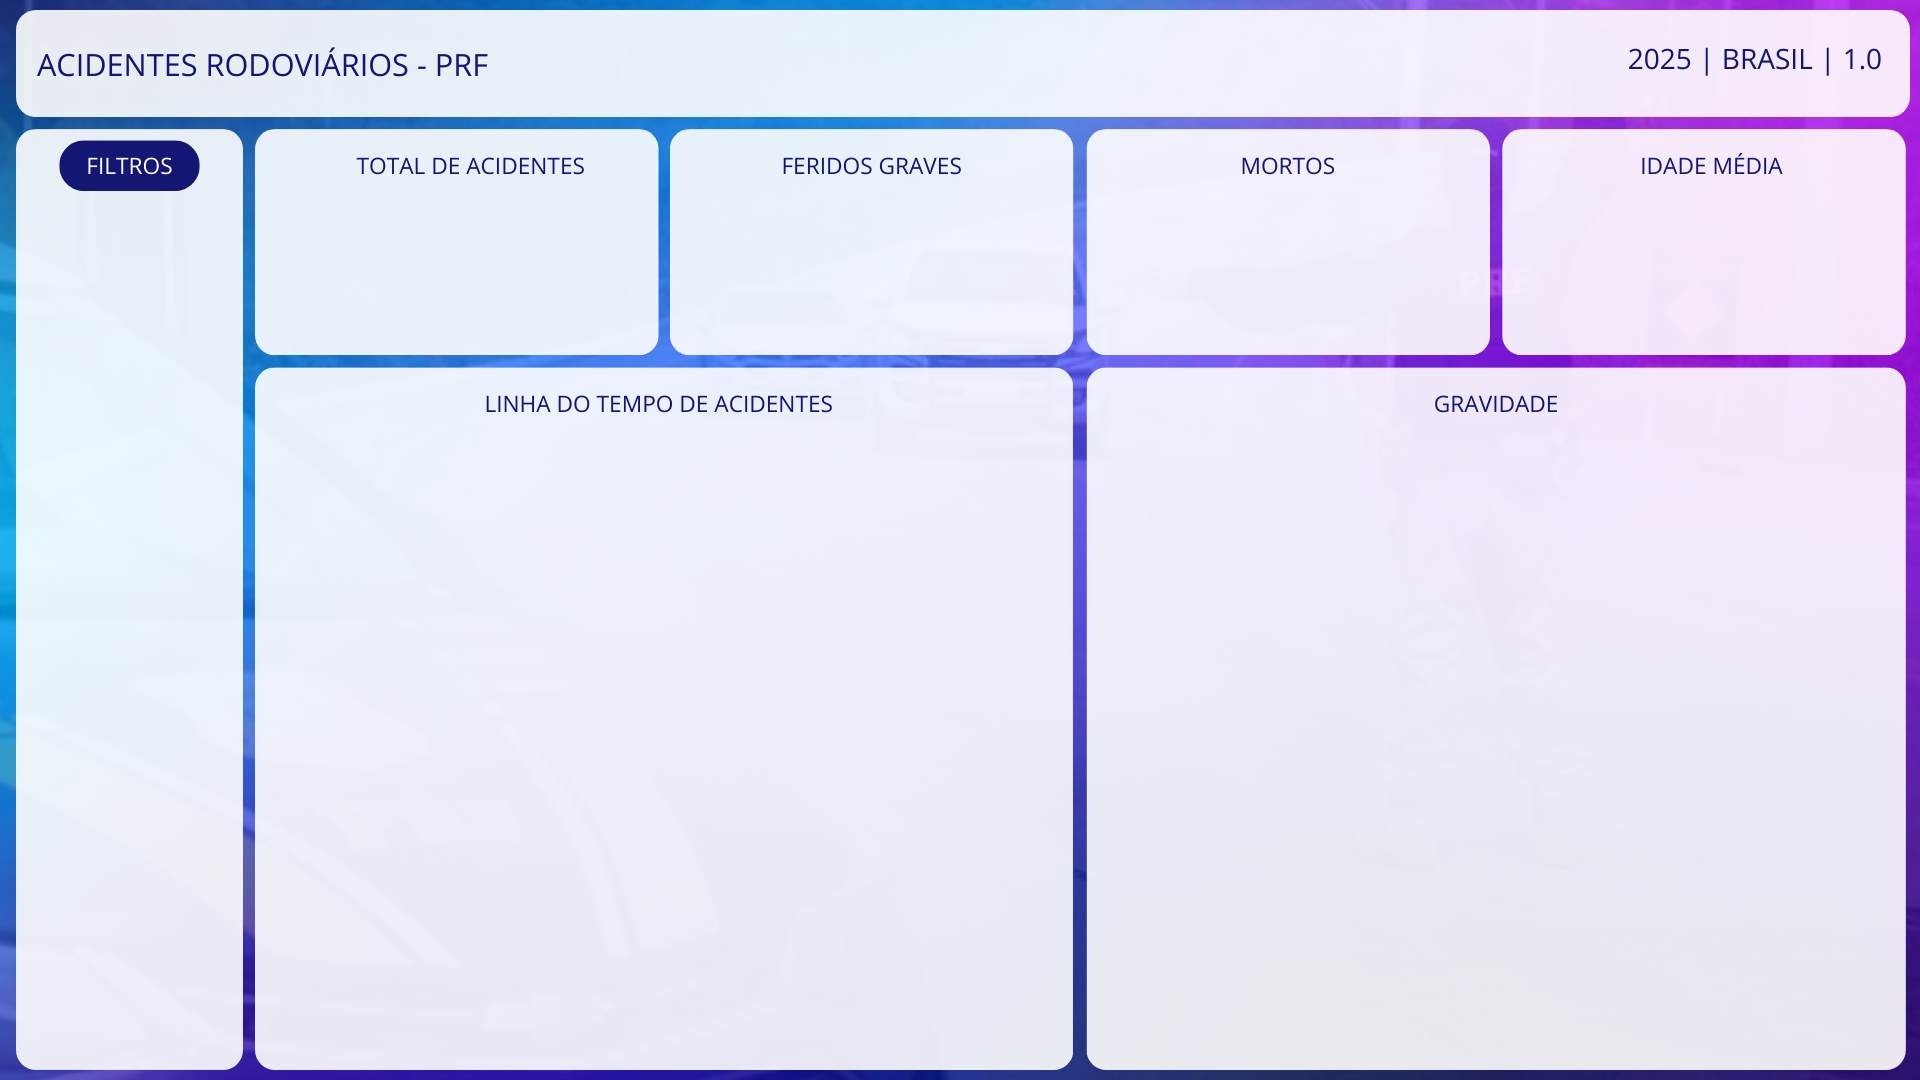

What the dashboard file says about the page in this screenshot:
{"tool":"powerbi","page":{"name":"Visão Geral","canvas":[1280,720],"ordinal":1},"visuals":[{"type":"card","fields":{"Values":["Tabela_Medidas.Total de Acidentes"]},"box":[176.1,85.7,267.9,150],"z":0},{"type":"card","fields":{"Values":["Tabela_Medidas.Mortos"]},"box":[725.7,85.7,266.4,150],"z":1000},{"type":"card","fields":{"Values":["Sum(acidentes_limpos.feridos_graves)"]},"box":[444,85.7,267.9,150],"z":2000},{"type":"lineChart","fields":{"Y":["Tabela_Medidas.Total de Acidentes"],"Category":["acidentes_limpos.data_inversa.Variation.Hierarquia de datas.Mês"]},"box":[176.1,290.9,535.9,410.3],"z":3000},{"type":"columnChart","fields":{"Y":["Tabela_Medidas.Total de Acidentes"],"Category":["acidentes_limpos.gravidade"]},"box":[725.7,290.9,542,410.3],"z":4000},{"type":"slicer","fields":{"Values":["acidentes_limpos.uf"]},"box":[10.7,290.9,148.5,65.8],"z":5000},{"type":"slicer","fields":{"Values":["acidentes_limpos.data_inversa"]},"box":[10.7,142.4,153.1,136.3],"z":6000},{"type":"slicer","fields":{"Values":["acidentes_limpos.gravidade"]},"box":[10.7,359.8,154.6,62.8],"z":7000},{"type":"card","fields":{"Values":["Tabela_Medidas.idade-media-texto"]},"box":[1001.3,85.7,266.4,150],"z":8000},{"type":"slicer","fields":{"Values":["acidentes_limpos.condicao_metereologica"]},"box":[10.7,434.8,148.5,61.2],"z":9000},{"type":"slicer","fields":{"Values":["acidentes_limpos.dia_semana"]},"box":[10.7,516,147,70.4],"z":10000}]}

Visuals, with their boxes in screenshot pixels (x1, y1, x2, y2), scaled from the page's 1280x720 canvas onto the 1920x1080 screenshot:
card - Tabela_Medidas.Total de Acidentes: [left=264, top=129, right=666, bottom=354]
card - Tabela_Medidas.Mortos: [left=1089, top=129, right=1488, bottom=354]
card - Sum(acidentes_limpos.feridos_graves): [left=666, top=129, right=1068, bottom=354]
lineChart - Tabela_Medidas.Total de Acidentes x acidentes_limpos.data_inversa.Variation.Hierarquia de datas.Mês: [left=264, top=436, right=1068, bottom=1052]
columnChart - Tabela_Medidas.Total de Acidentes x acidentes_limpos.gravidade: [left=1089, top=436, right=1902, bottom=1052]
slicer - acidentes_limpos.uf: [left=16, top=436, right=239, bottom=535]
slicer - acidentes_limpos.data_inversa: [left=16, top=214, right=246, bottom=418]
slicer - acidentes_limpos.gravidade: [left=16, top=540, right=248, bottom=634]
card - Tabela_Medidas.idade-media-texto: [left=1502, top=129, right=1902, bottom=354]
slicer - acidentes_limpos.condicao_metereologica: [left=16, top=652, right=239, bottom=744]
slicer - acidentes_limpos.dia_semana: [left=16, top=774, right=237, bottom=880]
